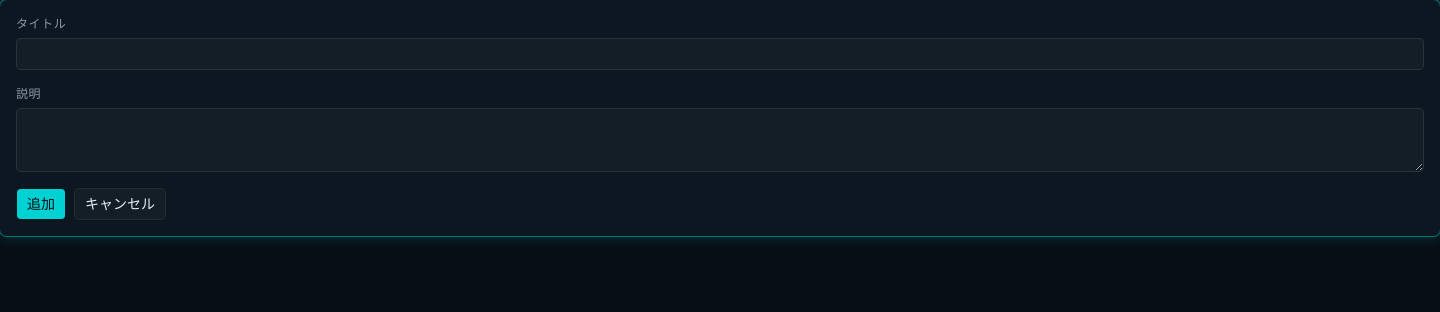
Test: TaskForm › タイトルが空のまま送信すると、エラーメッセージが表示されonSubmitが呼ばれない
The width and height of the screenshot is (1440, 312).
Click the button "追加".
click(41, 204)  # box left=16, top=188, right=66, bottom=220
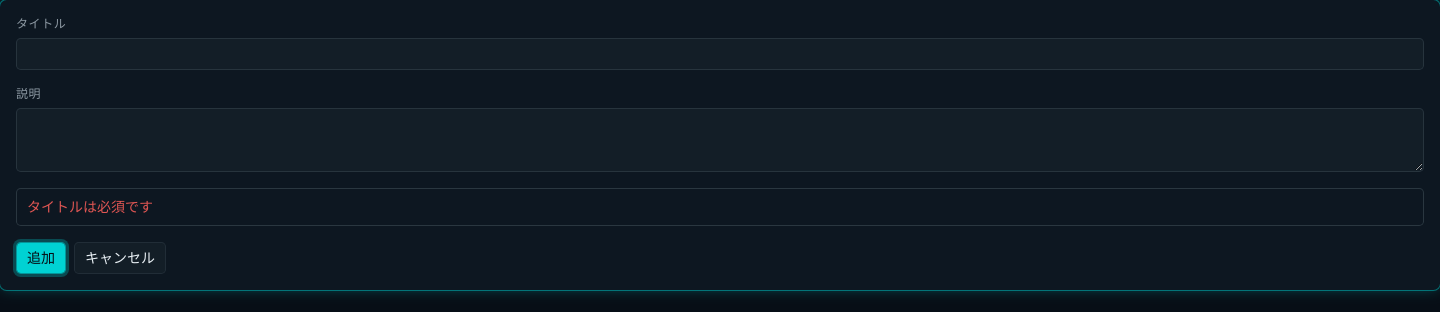
Check: the text "タイトルは必須です" is shown, box left=27, top=198, right=153, bottom=216
